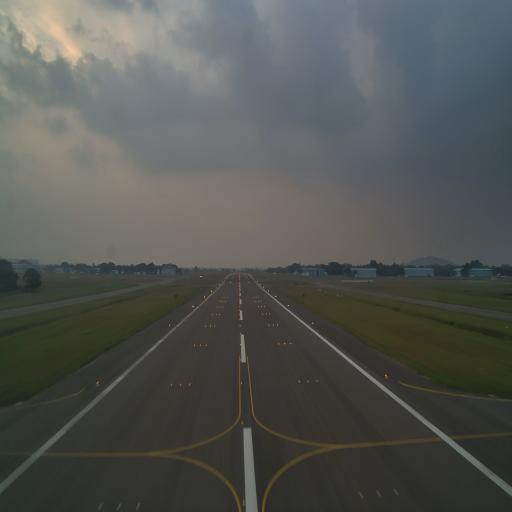on: (241, 498, 249, 510), (240, 418, 244, 428), (316, 377, 320, 385), (384, 372, 388, 379), (96, 378, 99, 387), (187, 382, 192, 387), (307, 377, 310, 385), (240, 380, 243, 386), (170, 382, 173, 388), (297, 380, 300, 386), (239, 358, 242, 364), (179, 383, 182, 387), (199, 343, 202, 347), (290, 340, 292, 346), (240, 342, 242, 347), (278, 342, 280, 347), (194, 343, 196, 347), (206, 344, 208, 348), (284, 342, 286, 345)
